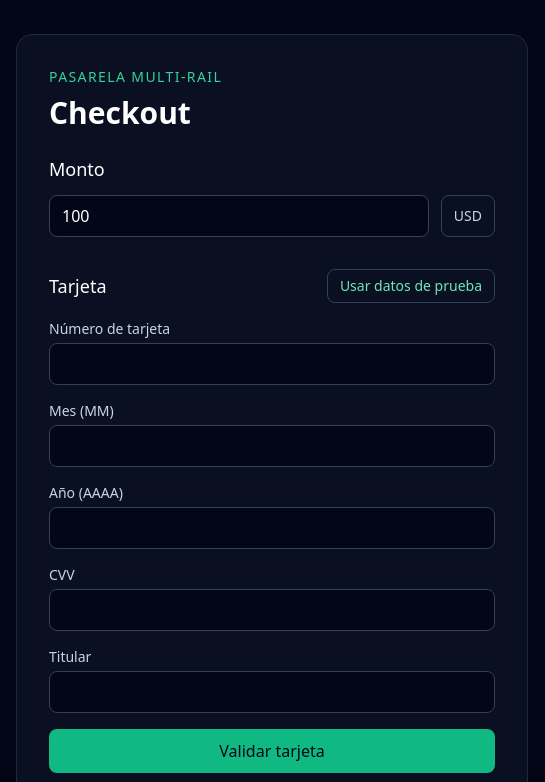
Test: CheckoutPage › muestra error UX ante respuesta 503
Click the button "Usar datos de prueba" at (411,286), box top-left (327, 269), bottom-right (495, 303)
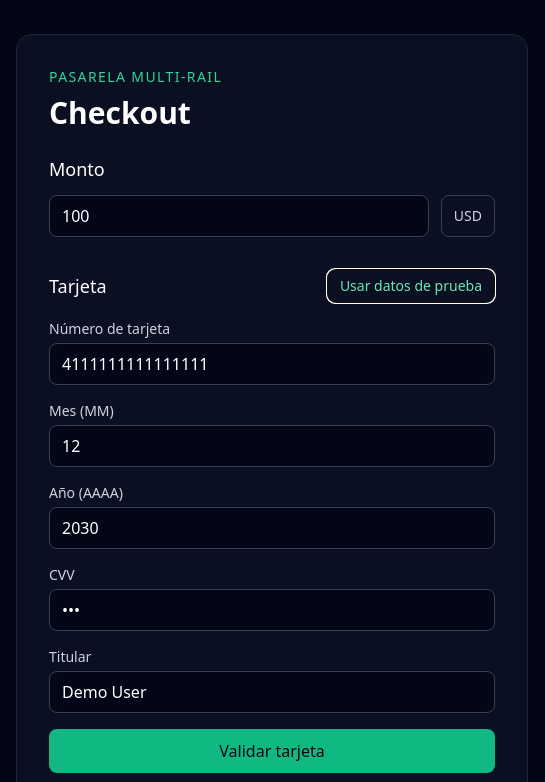
Click the button "Validar tarjeta" at (272,751), box top-left (49, 729), bottom-right (495, 773)
(page scrolled)
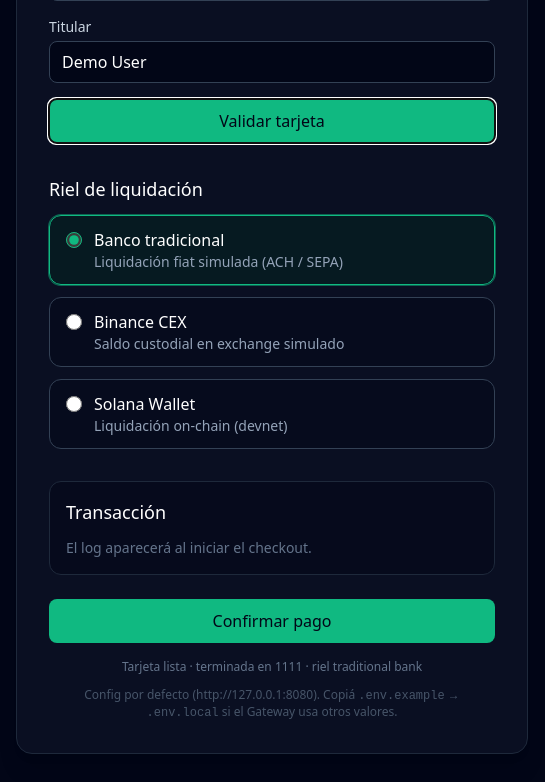
Click the button "Confirmar pago" at (272,621), box top-left (49, 599), bottom-right (495, 643)
(page scrolled)
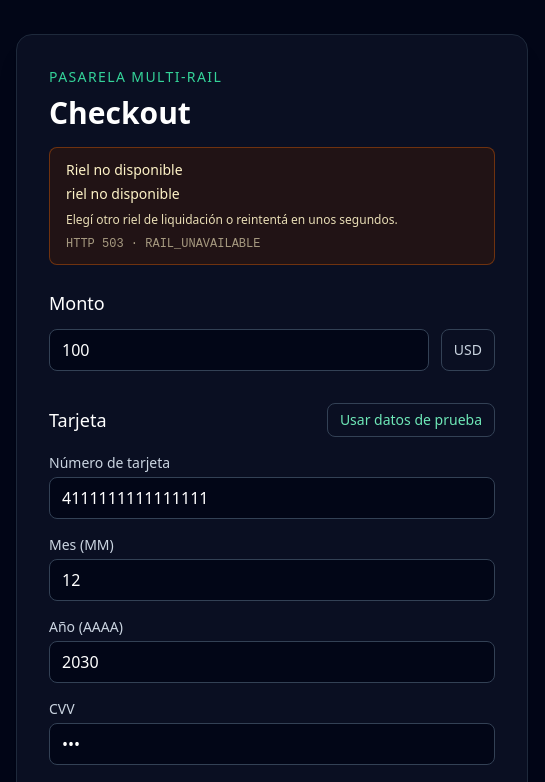
Expected: the message shows "Riel no disponible", top-left (66, 160), bottom-right (183, 179)
Expected: the message shows "otro riel", top-left (66, 211), bottom-right (398, 228)
Expected: the message shows "HTTP 503", top-left (49, 147), bottom-right (495, 265)
